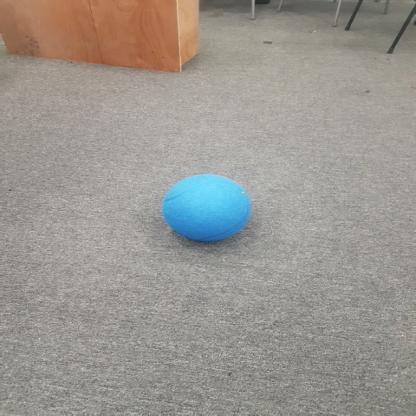sphere: (155, 164, 262, 251)
